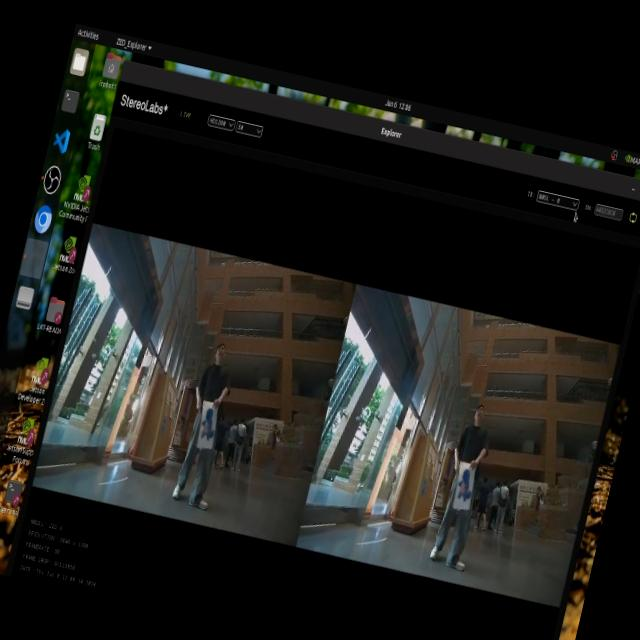blue: (190, 400, 223, 457), (452, 462, 478, 509)
